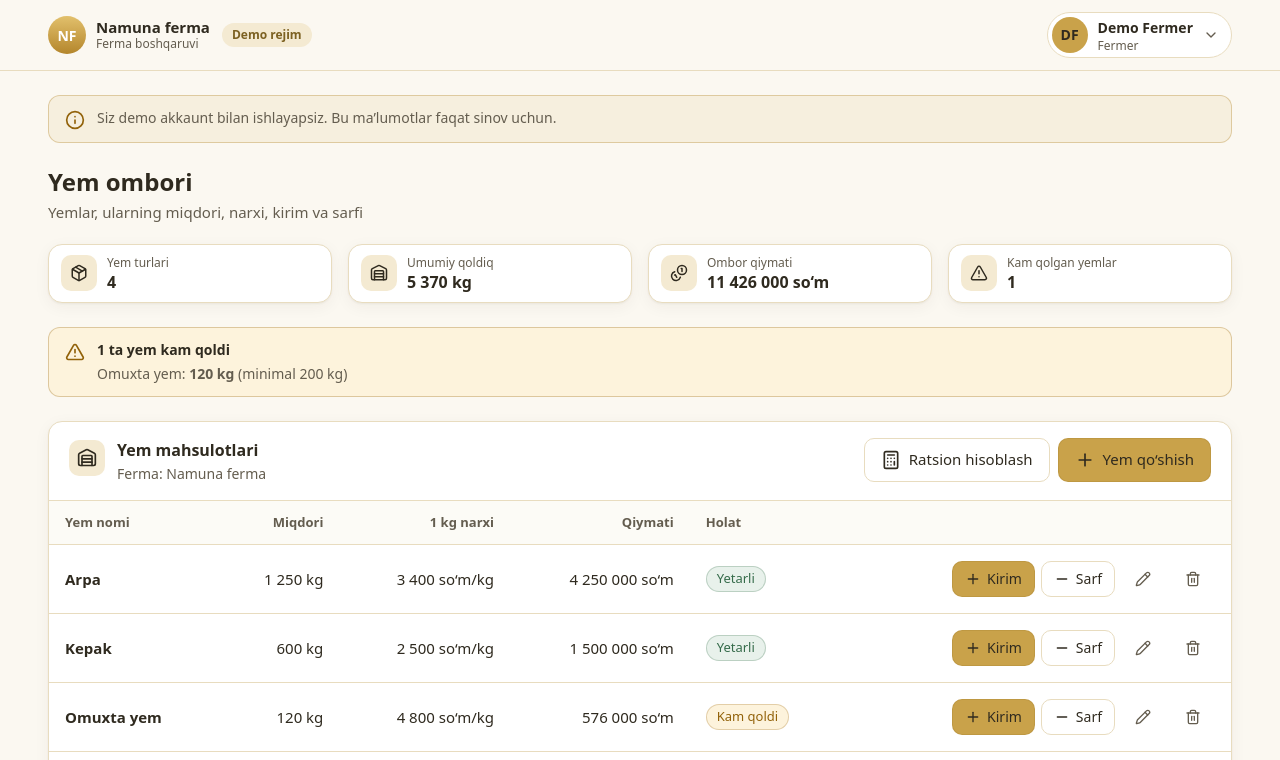
feed warehouse management › edits the price and minimum; a feed at its minimum is flagged
Click the button named "Arpa: tahrirlash". click: (1143, 579)
box: left=1121, top=557, right=1165, bottom=601
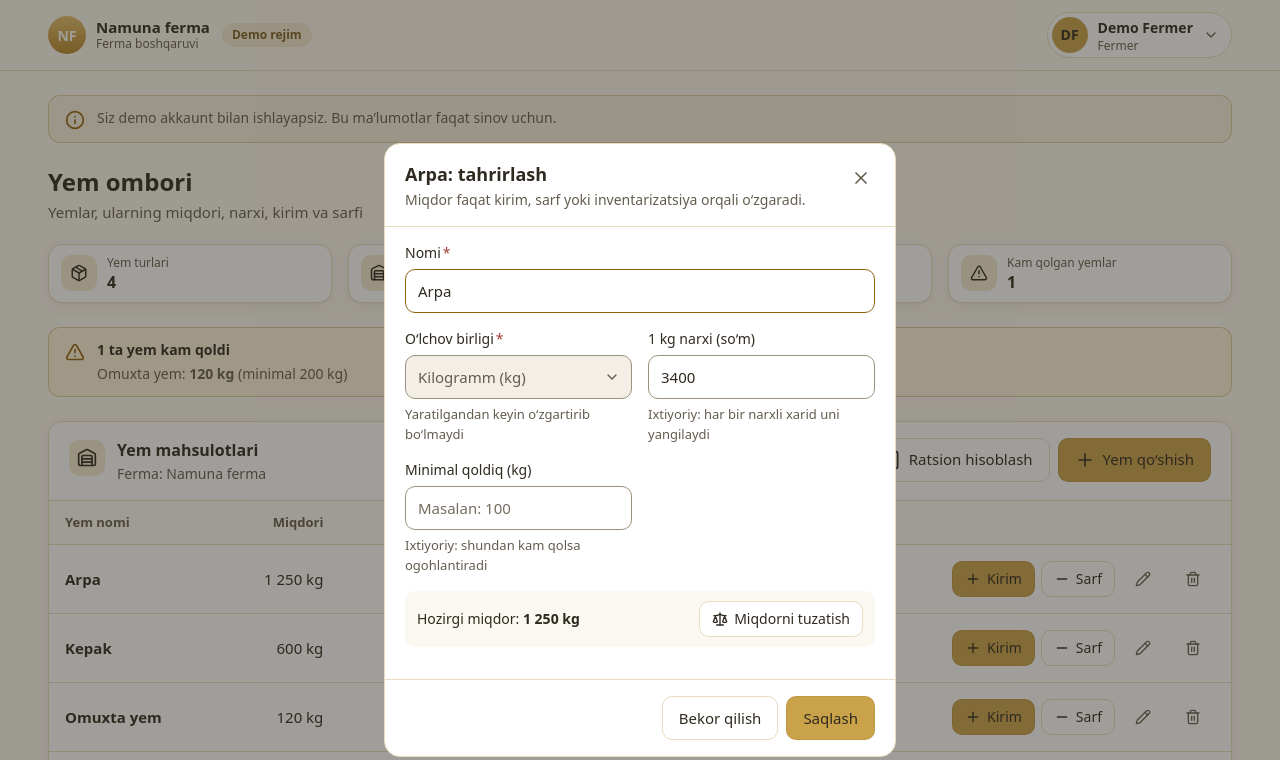
Now the field labelled "1 kg narxi (so‘m)" holds "3400"
Replace the text in the field labelled "1 kg narxi (so‘m)" with "3600". click: (762, 377)
box: left=648, top=355, right=875, bottom=399
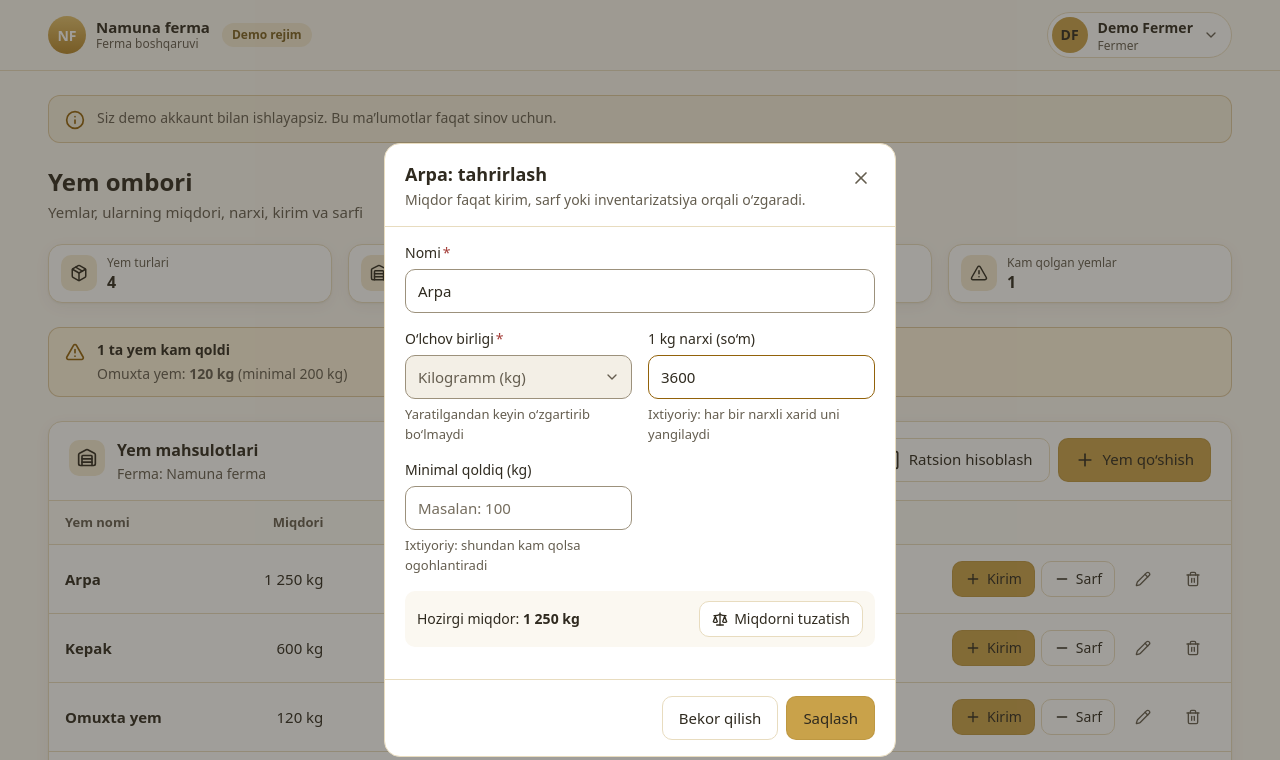
Type "1250" into the field labelled "Minimal qoldiq (kg)". click: (518, 508)
box: left=405, top=486, right=632, bottom=530
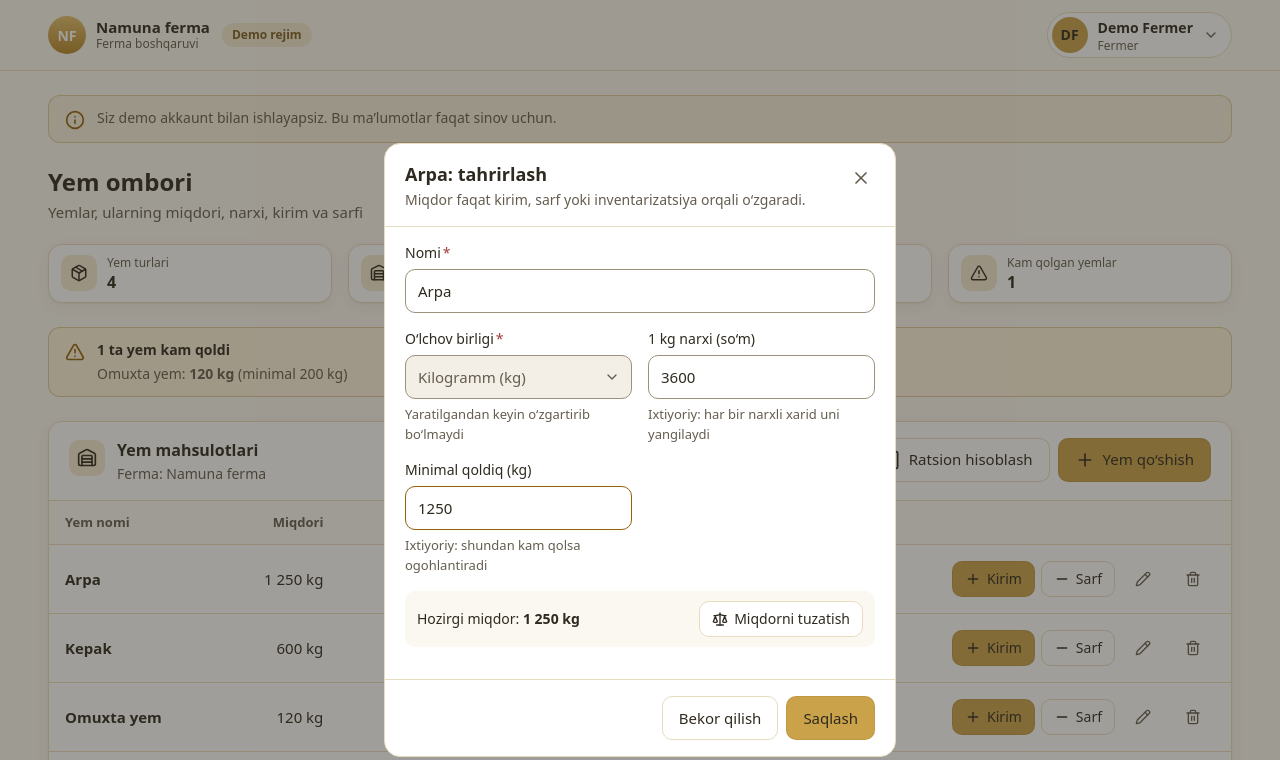
Click the button "Saqlash". click: (831, 718)
box: left=786, top=696, right=875, bottom=740
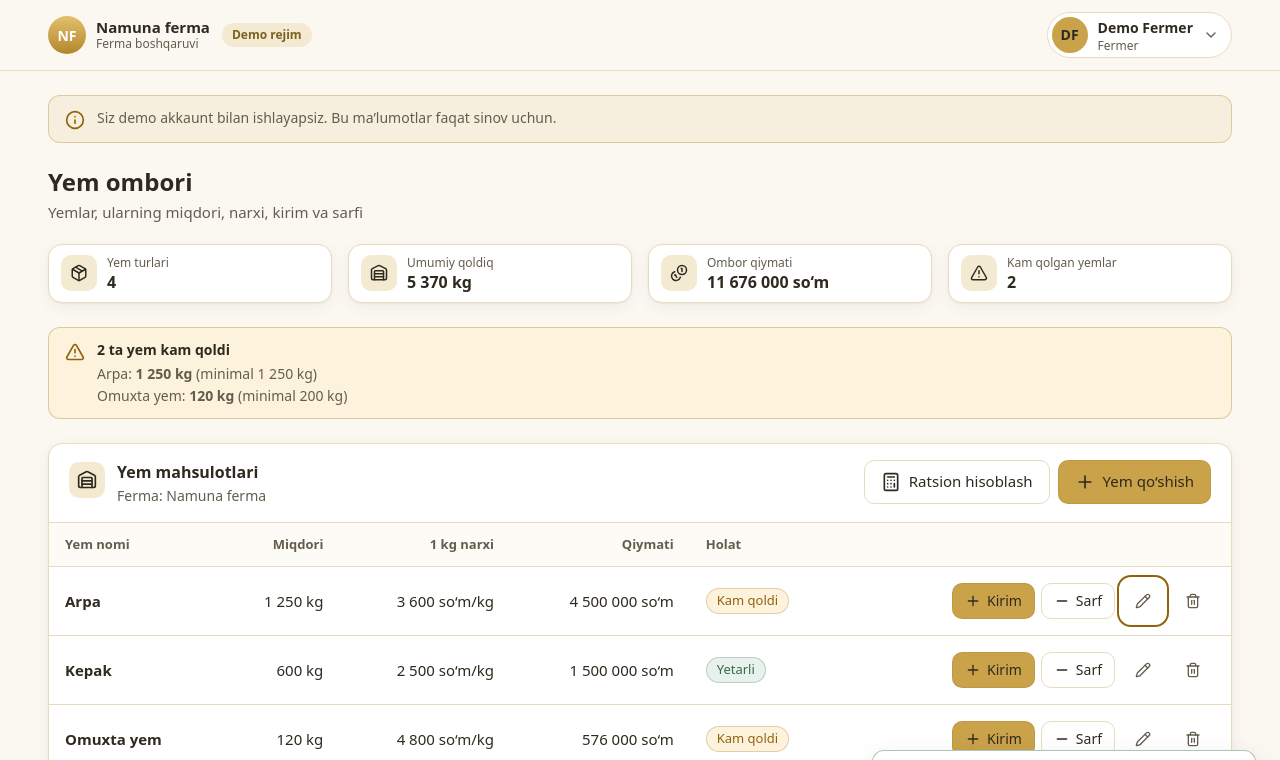
Now the dialog is gone
Now the text "2 ta yem kam qoldi" is shown, box left=97, top=340, right=230, bottom=358
Now the text "3 600 so‘m/kg" is shown, box left=339, top=567, right=510, bottom=636
